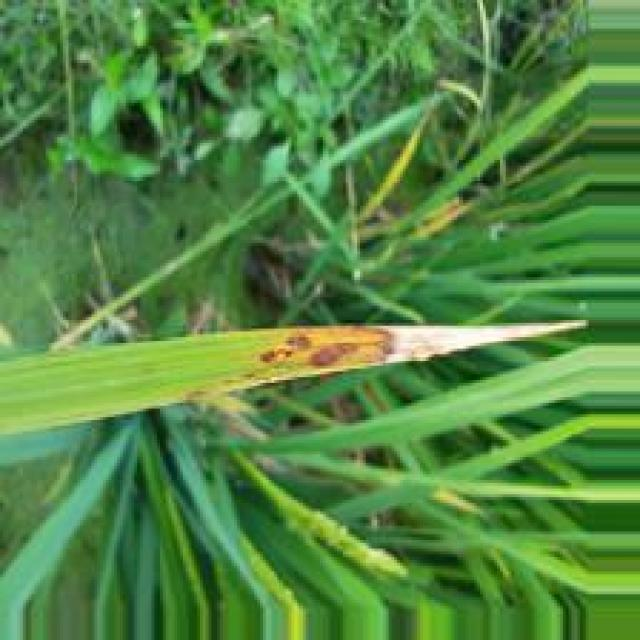Rice False Smut: (347, 326, 511, 363), (255, 329, 317, 367), (299, 341, 366, 368)
